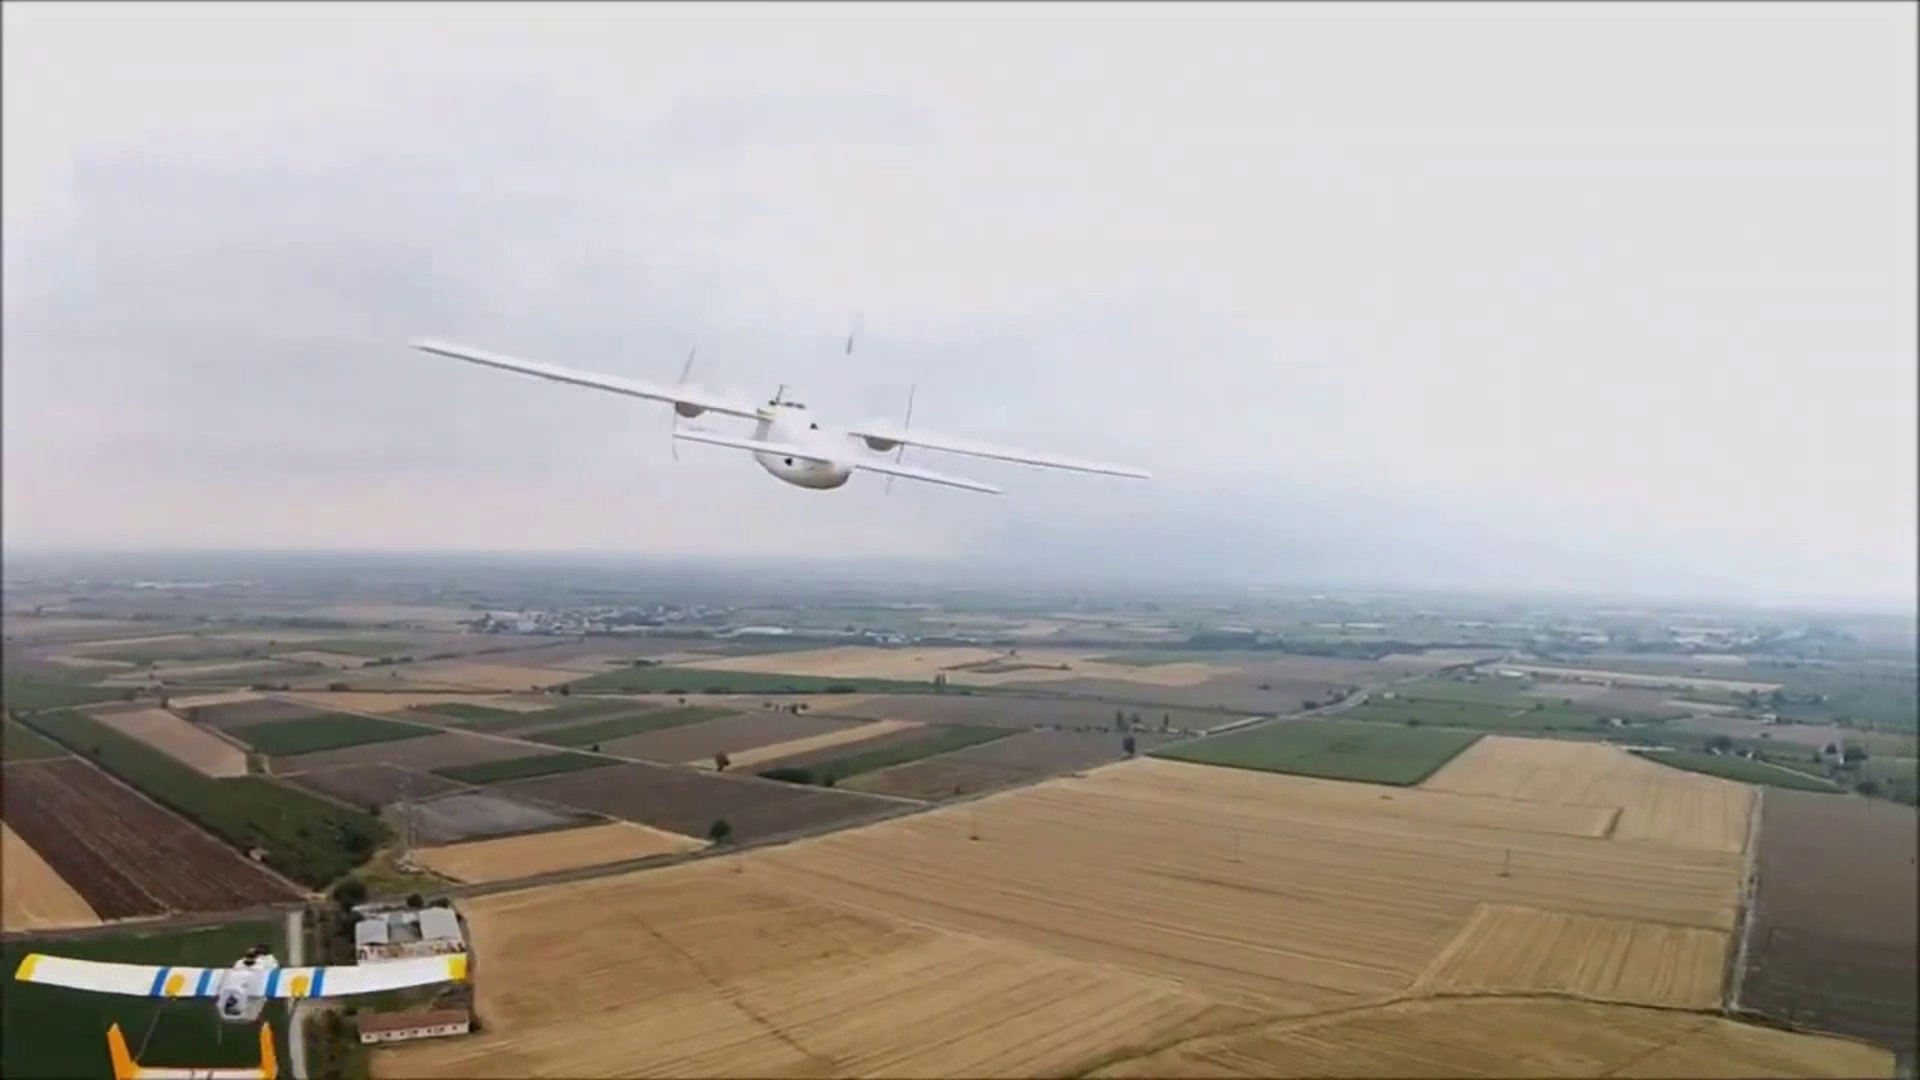airplane: (413, 324, 1153, 501)
